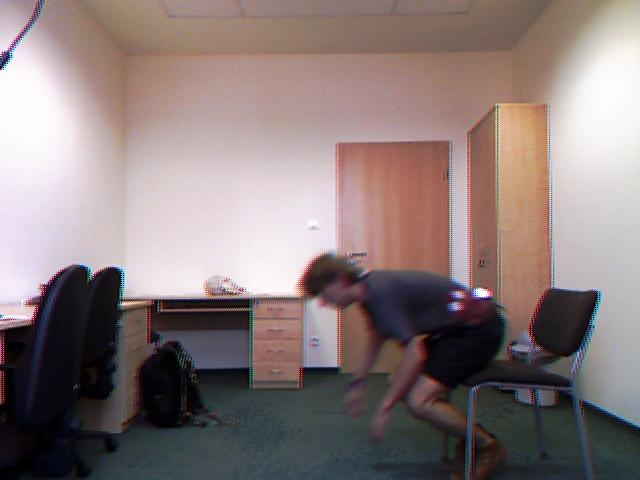near-fall: (283, 235, 523, 480)
